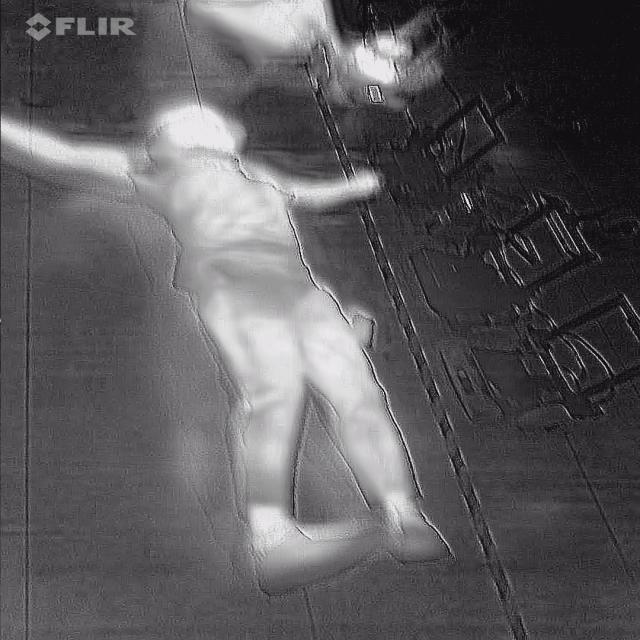Victim: (0, 91, 455, 597)
